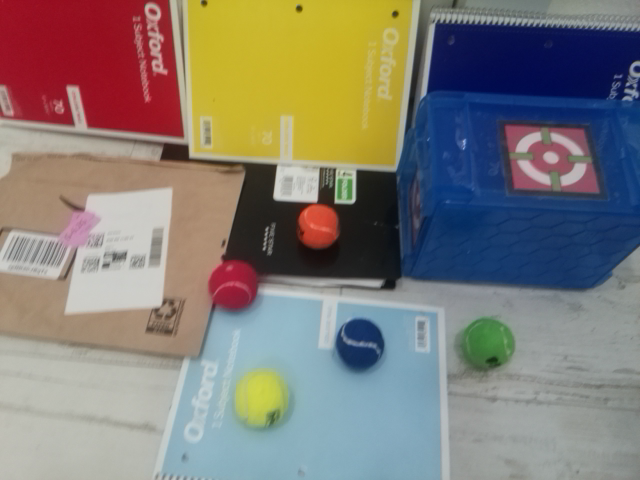blue-ball: (336, 318, 385, 371)
drop-bin: (499, 120, 606, 199)
green-ball: (461, 317, 515, 370)
orange-ball: (296, 203, 342, 251)
red-ball: (208, 258, 259, 310)
yellow-ball: (234, 369, 290, 430)
